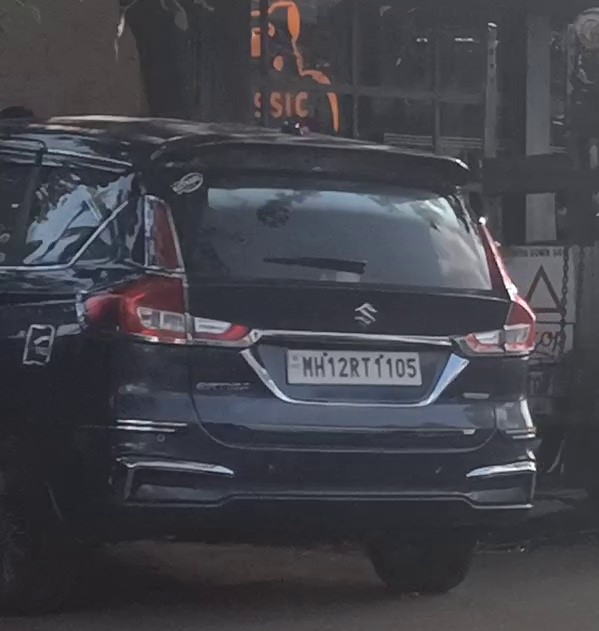MH12RT1105: (287, 350, 418, 385)
